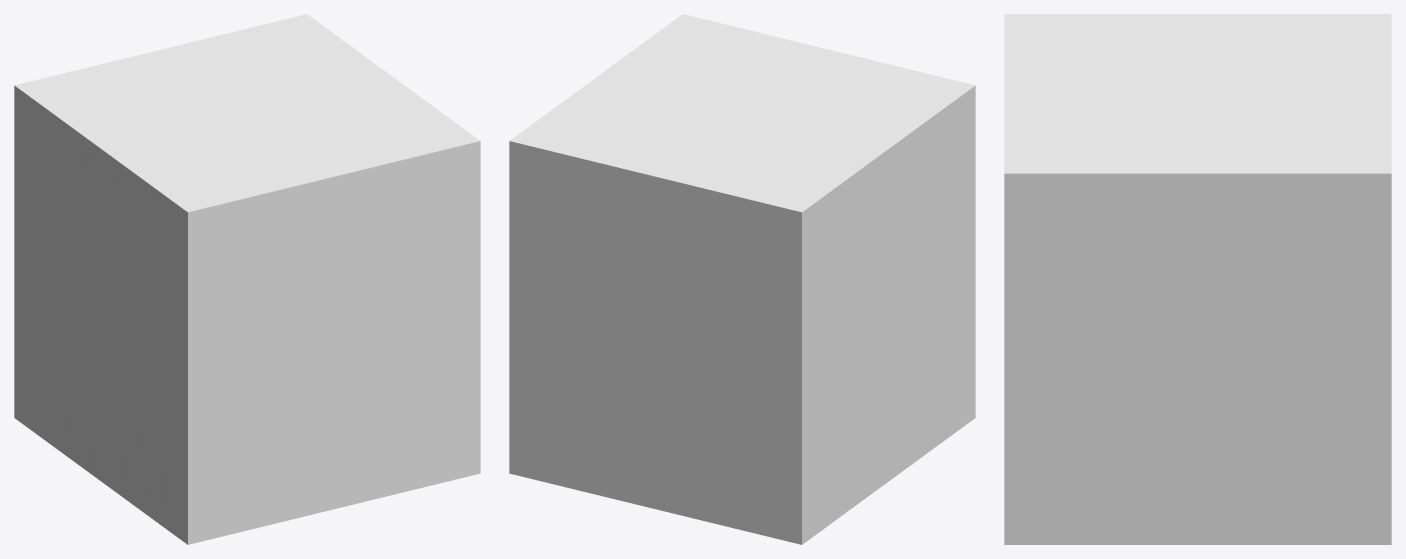
3 views of the same model, side by side, from view 1: azimuth 30°, elevation 25°; view 2: azimuth 150°, elevation 25°; view 3: azimuth 270°, elevation 25° (orthographic). The views are drawn at different scales.
Size of the model in its own units: 3.85 by 4.24 by 3.95.
Materials: 5 (5 with a texture image).
